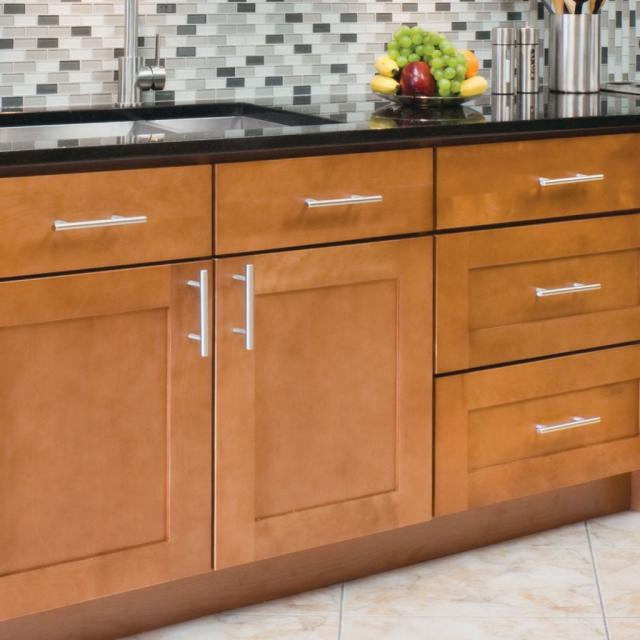Dish: (388, 25, 496, 114)
Handle: (47, 212, 164, 236), (236, 266, 265, 362), (298, 190, 397, 213), (194, 267, 216, 361), (531, 170, 623, 191), (535, 417, 608, 438), (522, 284, 614, 300)
